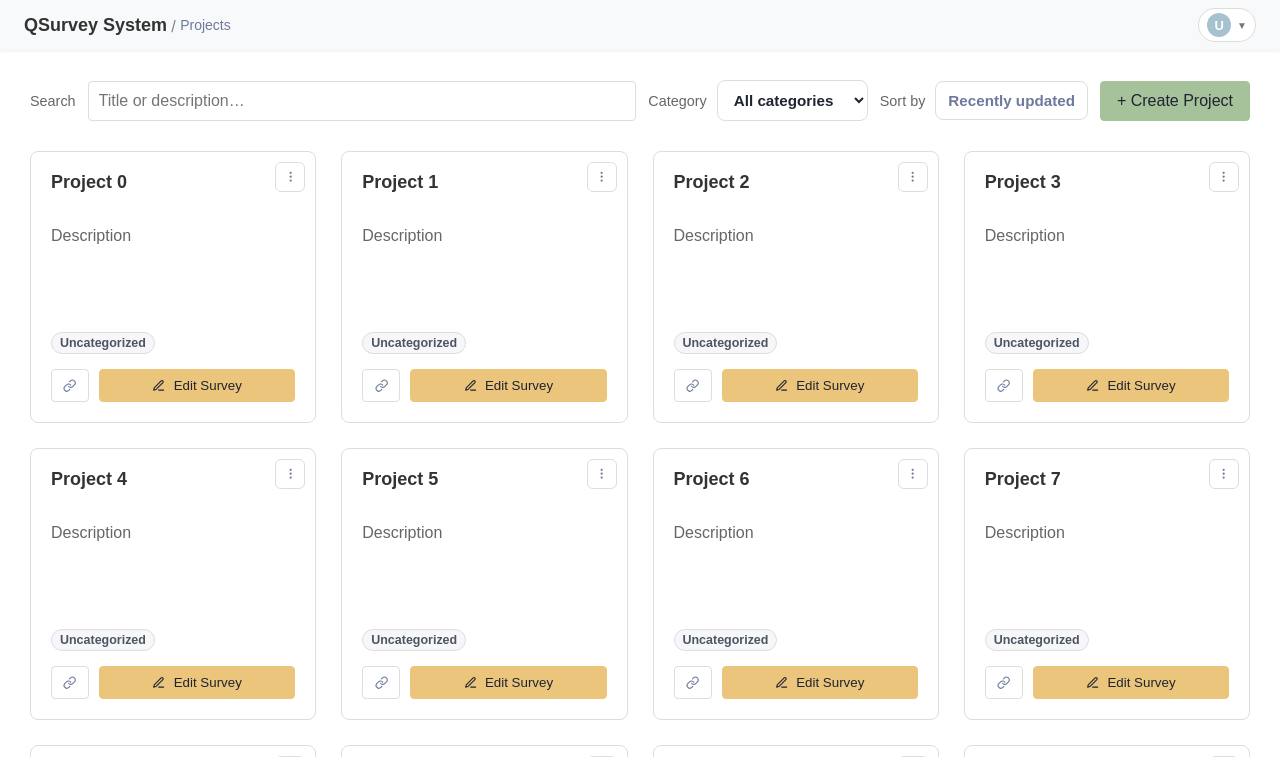
Test: designer survey quota › allows the fiftieth project for an ordinary designer
Click the button "+ Create Project" at [1175, 100], box x1=1100 y1=80 x2=1250 y2=120
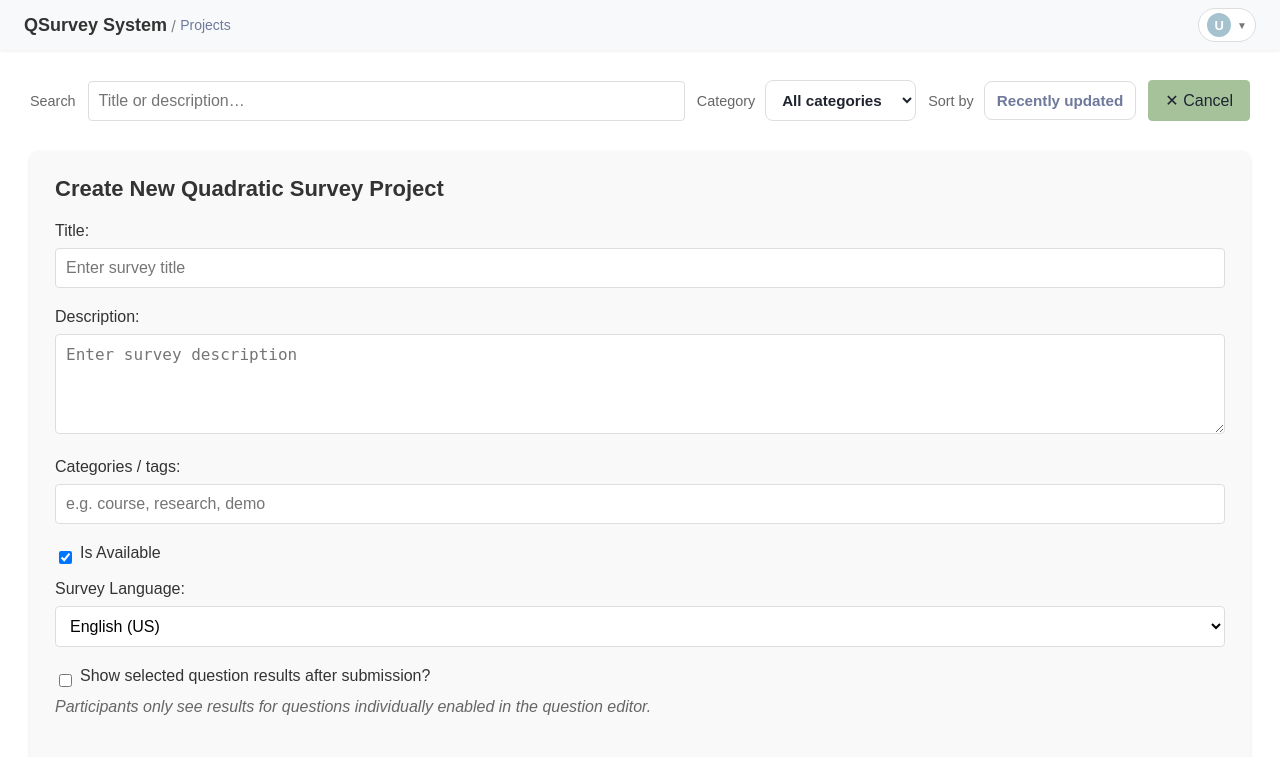
Expected: the field labelled "Title:" is shown, x1=55 y1=248 x2=1225 y2=288
